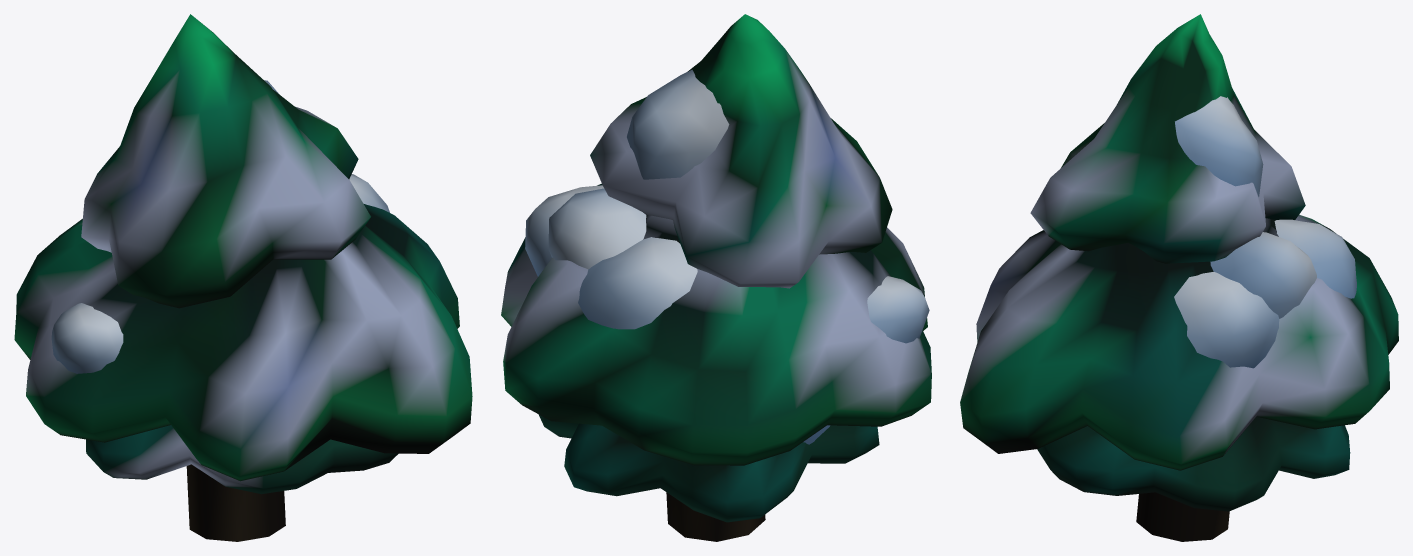
The model's file is Tree_03.fbx.
The picture shows the model from 3 angles, left to right: view 1: azimuth 30°, elevation 25°; view 2: azimuth 150°, elevation 25°; view 3: azimuth 270°, elevation 25°; orthographic projection. The views are drawn at different scales.
Parts seen in each view (by area): view 1: Tree_03; view 2: Tree_03; view 3: Tree_03.
Boxes of the visible parts, left/top/right/bottom form: Tree_03: left=14, top=14, right=472, bottom=541; Tree_03: left=501, top=14, right=931, bottom=541; Tree_03: left=960, top=14, right=1398, bottom=541.
Bounding box in the file's own units: 3009 × 3616 × 2910.
